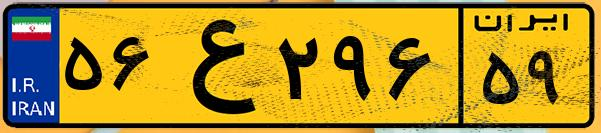2: (270, 28, 330, 110)
5: (57, 26, 110, 100), (475, 38, 525, 113)
6: (385, 28, 445, 110), (110, 28, 158, 98)
9: (330, 28, 385, 110), (525, 38, 570, 115)
ع: (158, 12, 270, 120)
